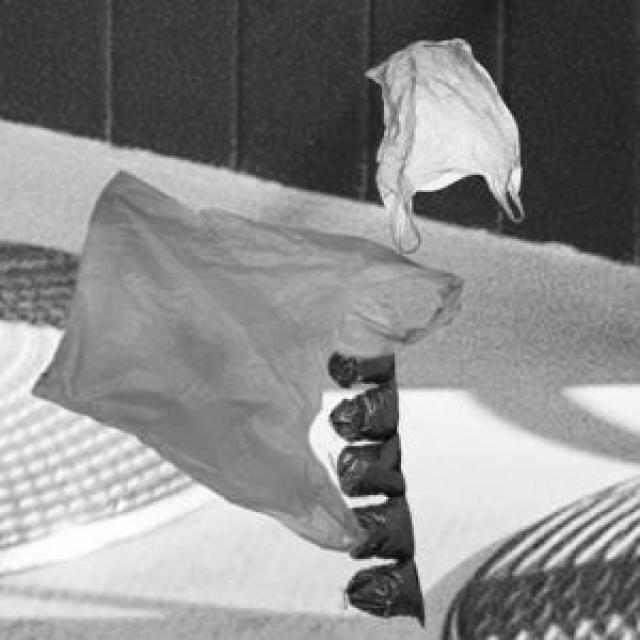miscellaneous trash: (322, 346, 419, 623)
